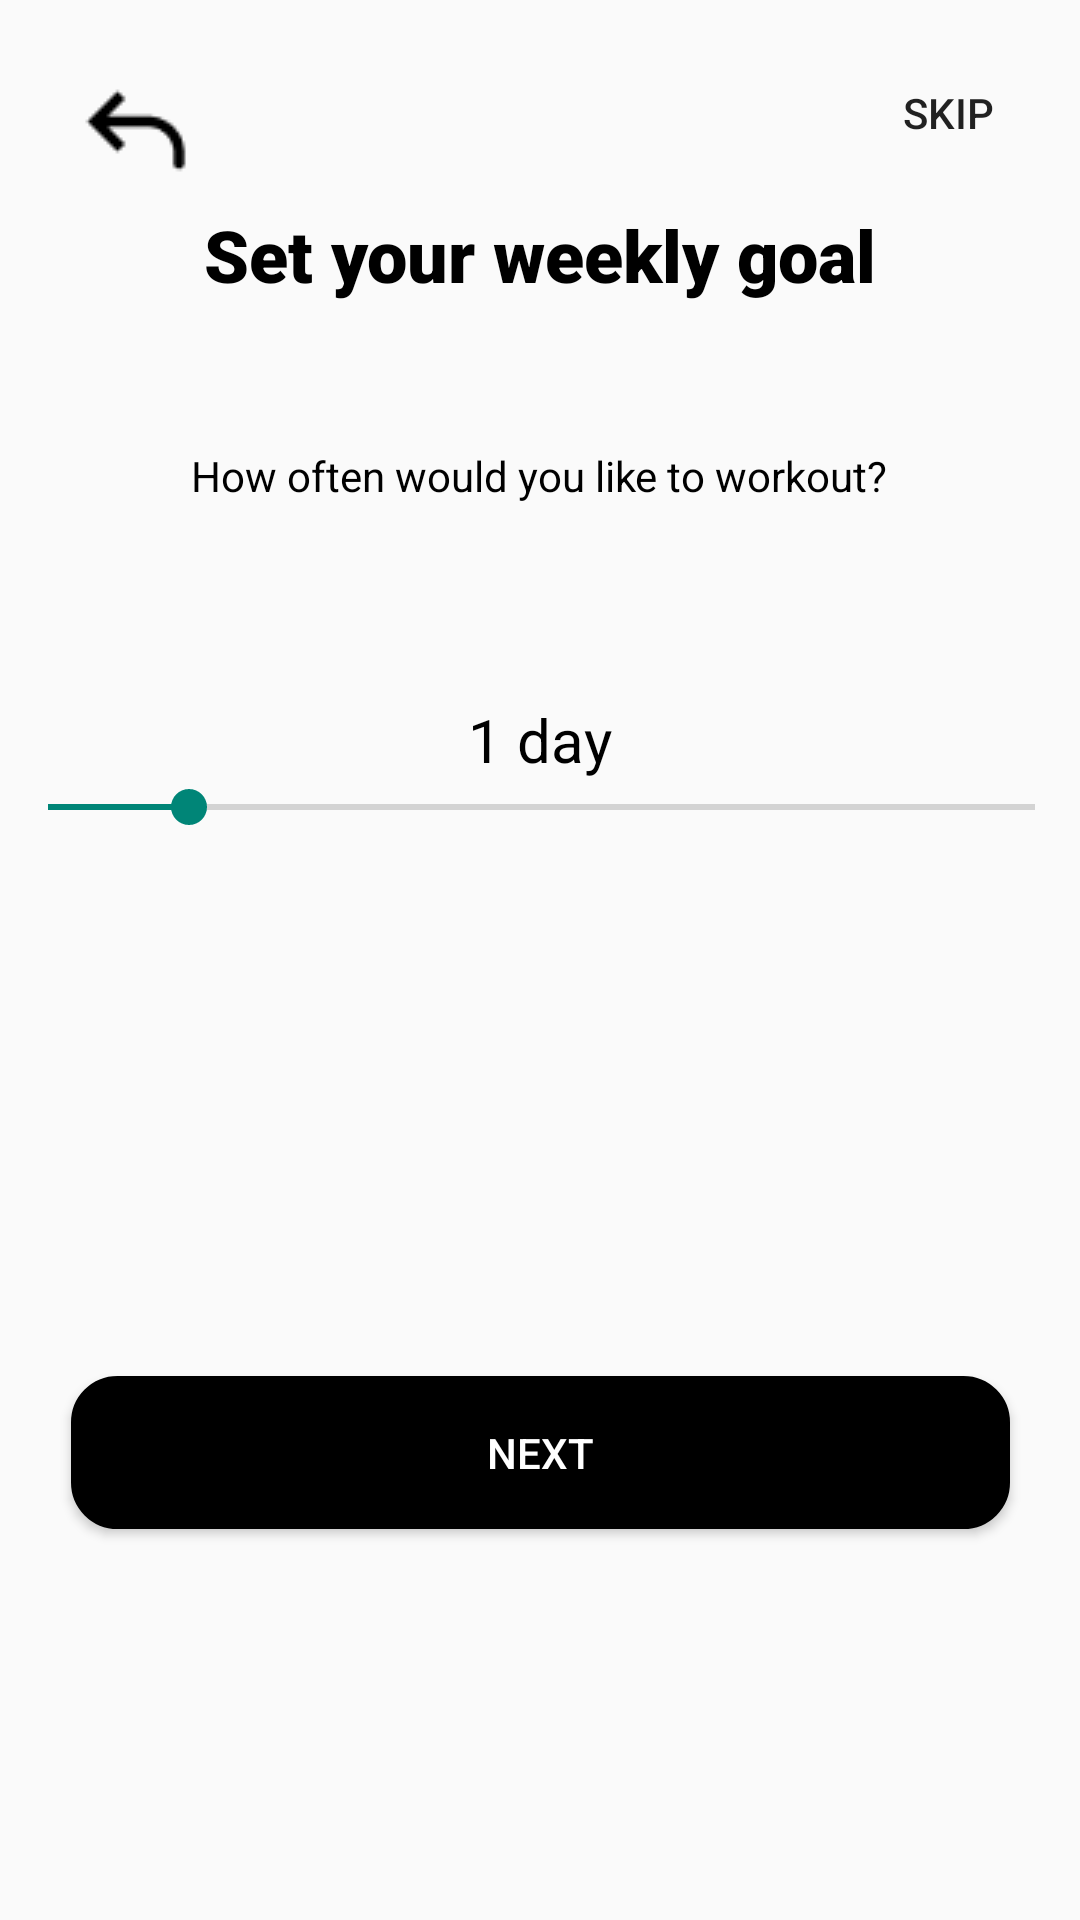

Icons on this 1080 x 1920 Android screen, each with its box as (x1, y1, x2, y2):
lets back: (86, 90, 186, 171)
